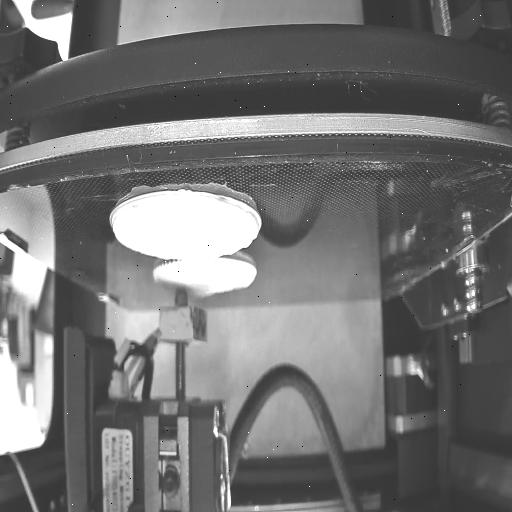over_extrusion: (250, 208, 260, 234)
